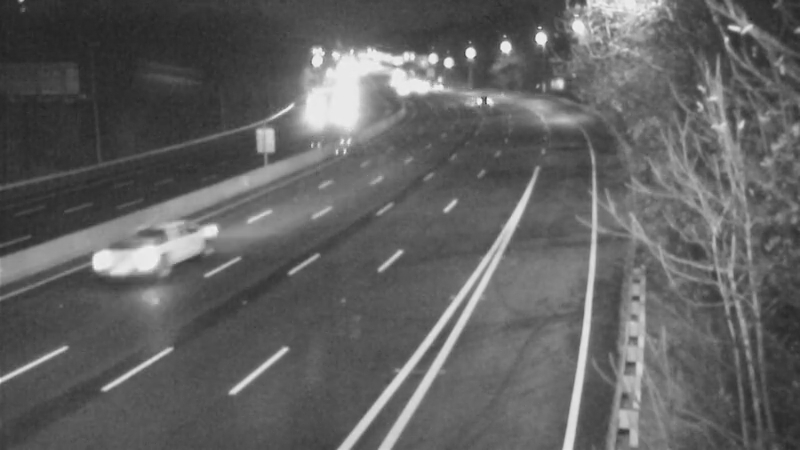vehicle: (85, 220, 165, 300), (467, 74, 517, 124)
